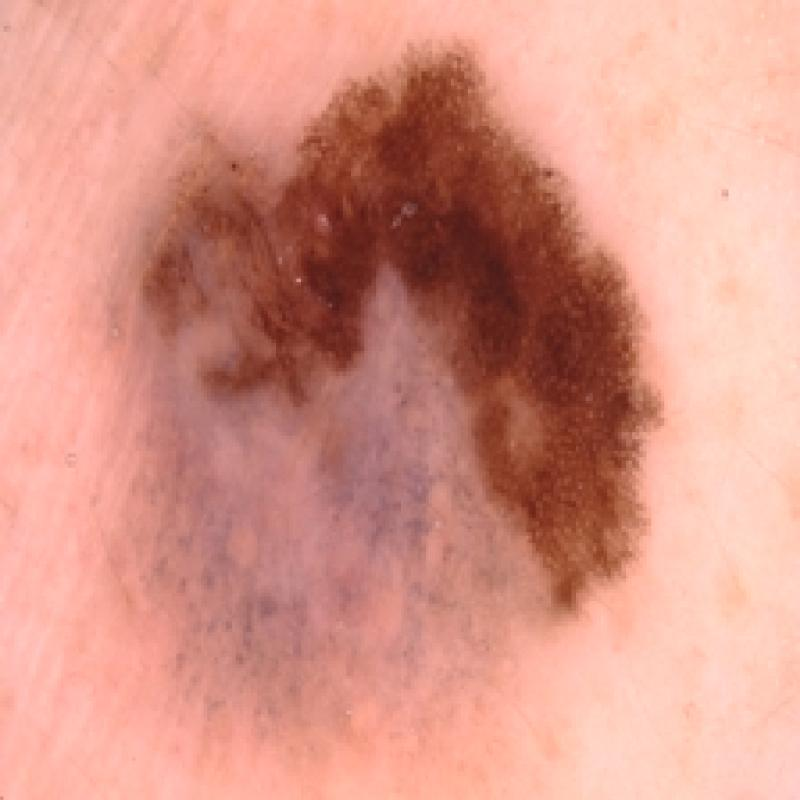malignant: (73, 43, 689, 698)
